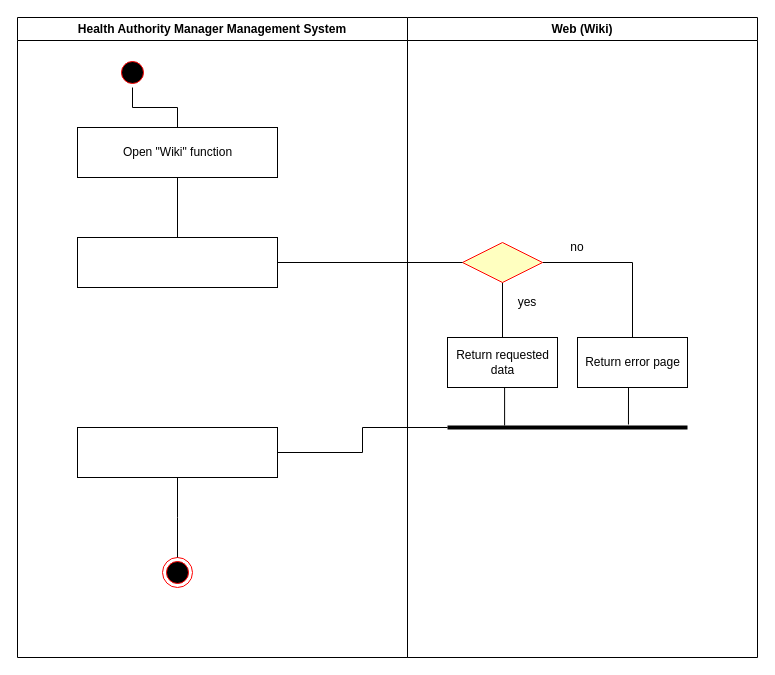
Some shapes in this 775 by 675 pixel diagram are drawn without their labels. The shapes that lost their labels are listed below. From the top down, each one's centre as x and y in pixels, then its label:
pixel 177 262: Load page
pixel 502 262: data available
pixel 177 452: Display data
